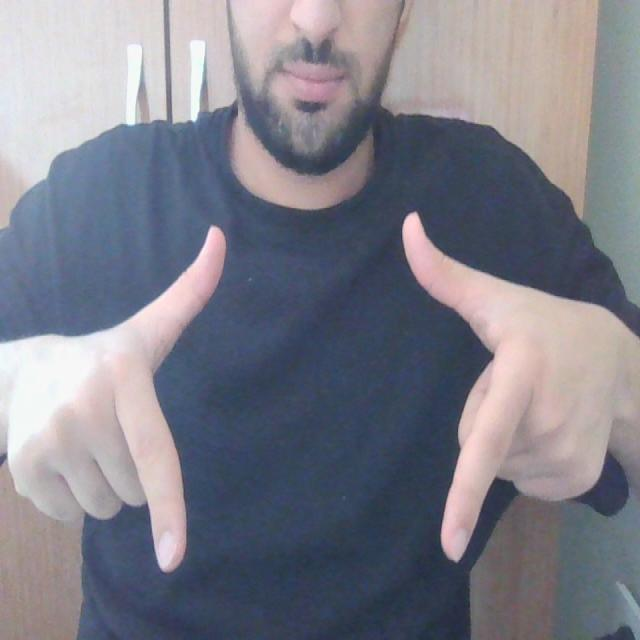Nerede: (105, 203, 542, 580)
